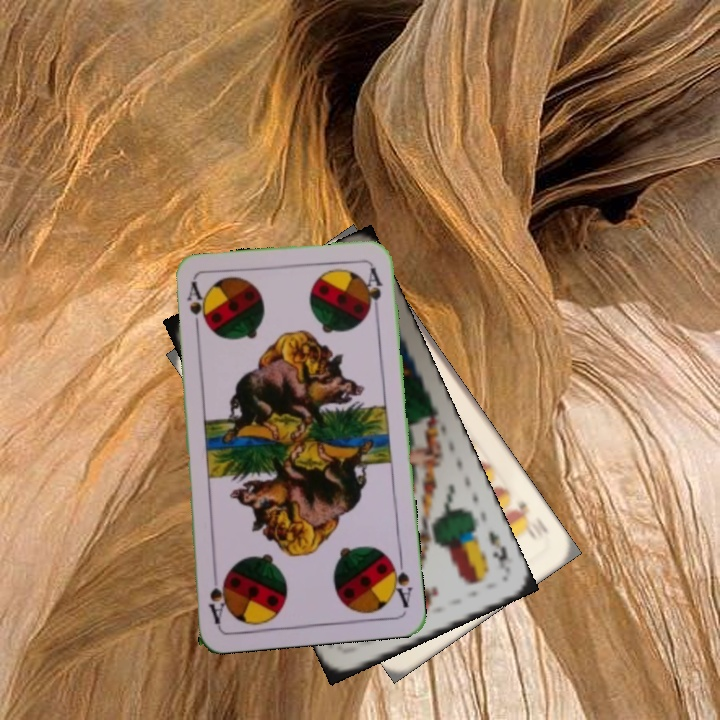E10: (509, 495, 546, 540)
EK: (484, 527, 511, 565)
SA: (385, 551, 415, 610), (183, 279, 203, 338)
